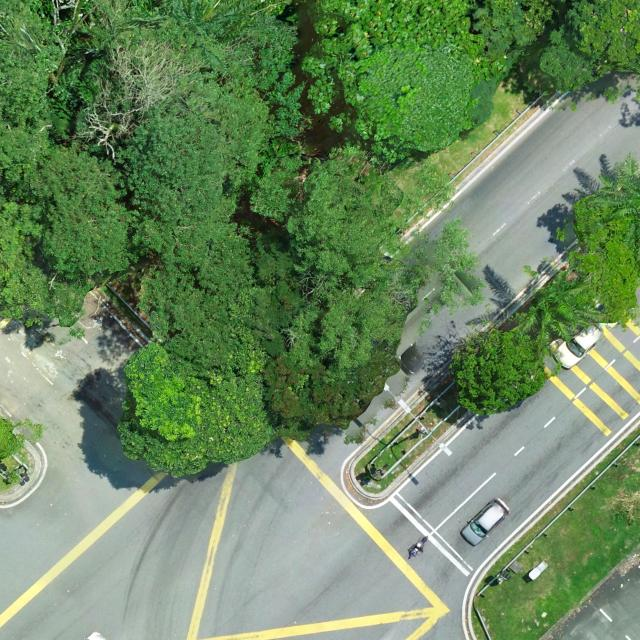Tree: (248, 145, 428, 380), (301, 0, 506, 168), (136, 221, 306, 382), (112, 73, 276, 225), (117, 339, 271, 479), (469, 0, 640, 100), (26, 142, 138, 282), (0, 181, 97, 330), (262, 353, 403, 432), (509, 261, 620, 354), (567, 194, 640, 330), (447, 328, 548, 416), (586, 149, 640, 263)
